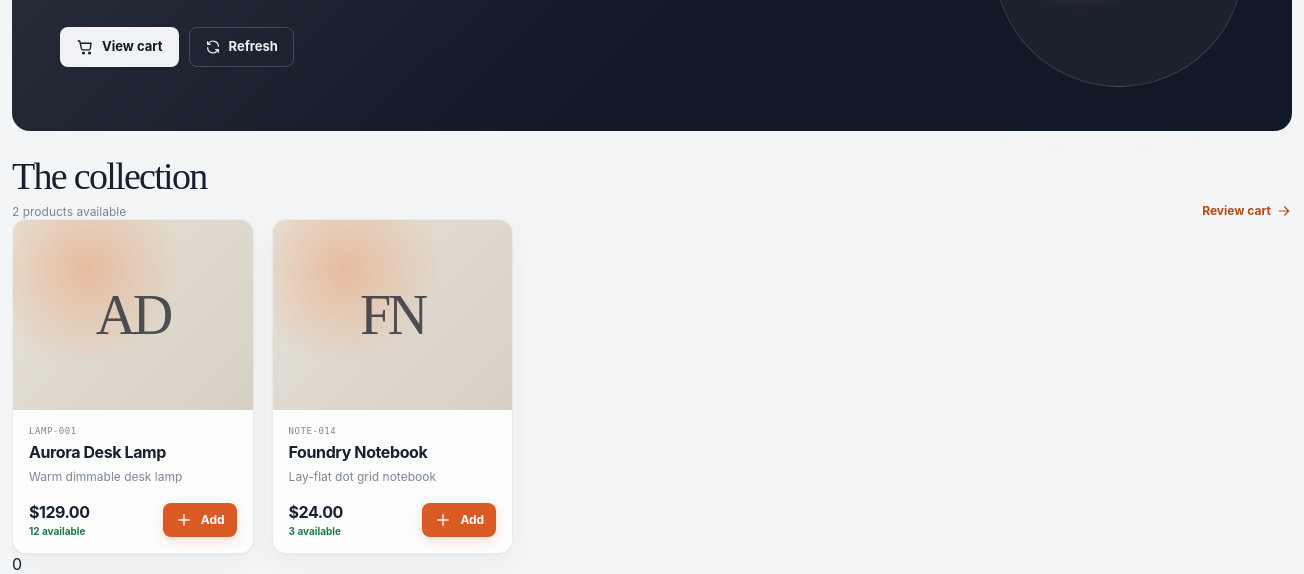
Test: StoreProductsPage › renders the storefront product grid and adds an item to the cart
The image size is (1304, 574).
(page scrolled)
Expected: the link "Aurora Desk Lamp" is shown, left=29, top=442, right=166, bottom=462
Expected: the link "Foundry Notebook" is shown, left=289, top=442, right=427, bottom=462
What coordinates should you click on to do the following:
click the button with aria-label "Add Aurora Desk Lamp to cart"
I would click on:
 (200, 520)
Its box is left=163, top=504, right=237, bottom=538.
(page scrolled)
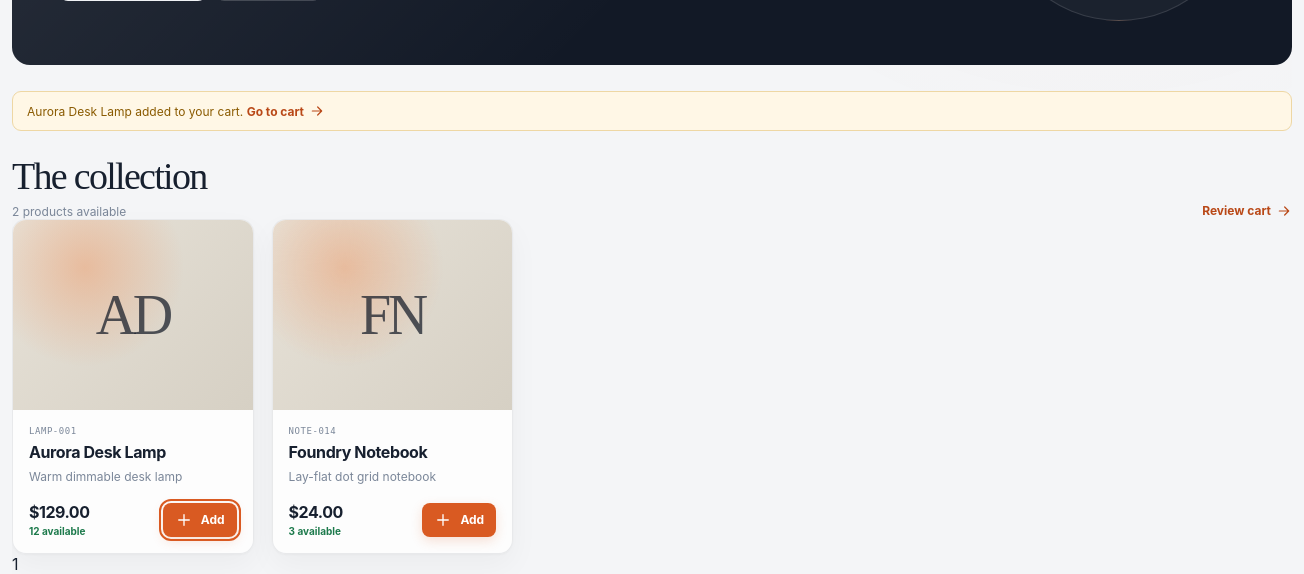
Result: the text with test id "cart-count" reads "1" at left=12, top=554, right=18, bottom=573
